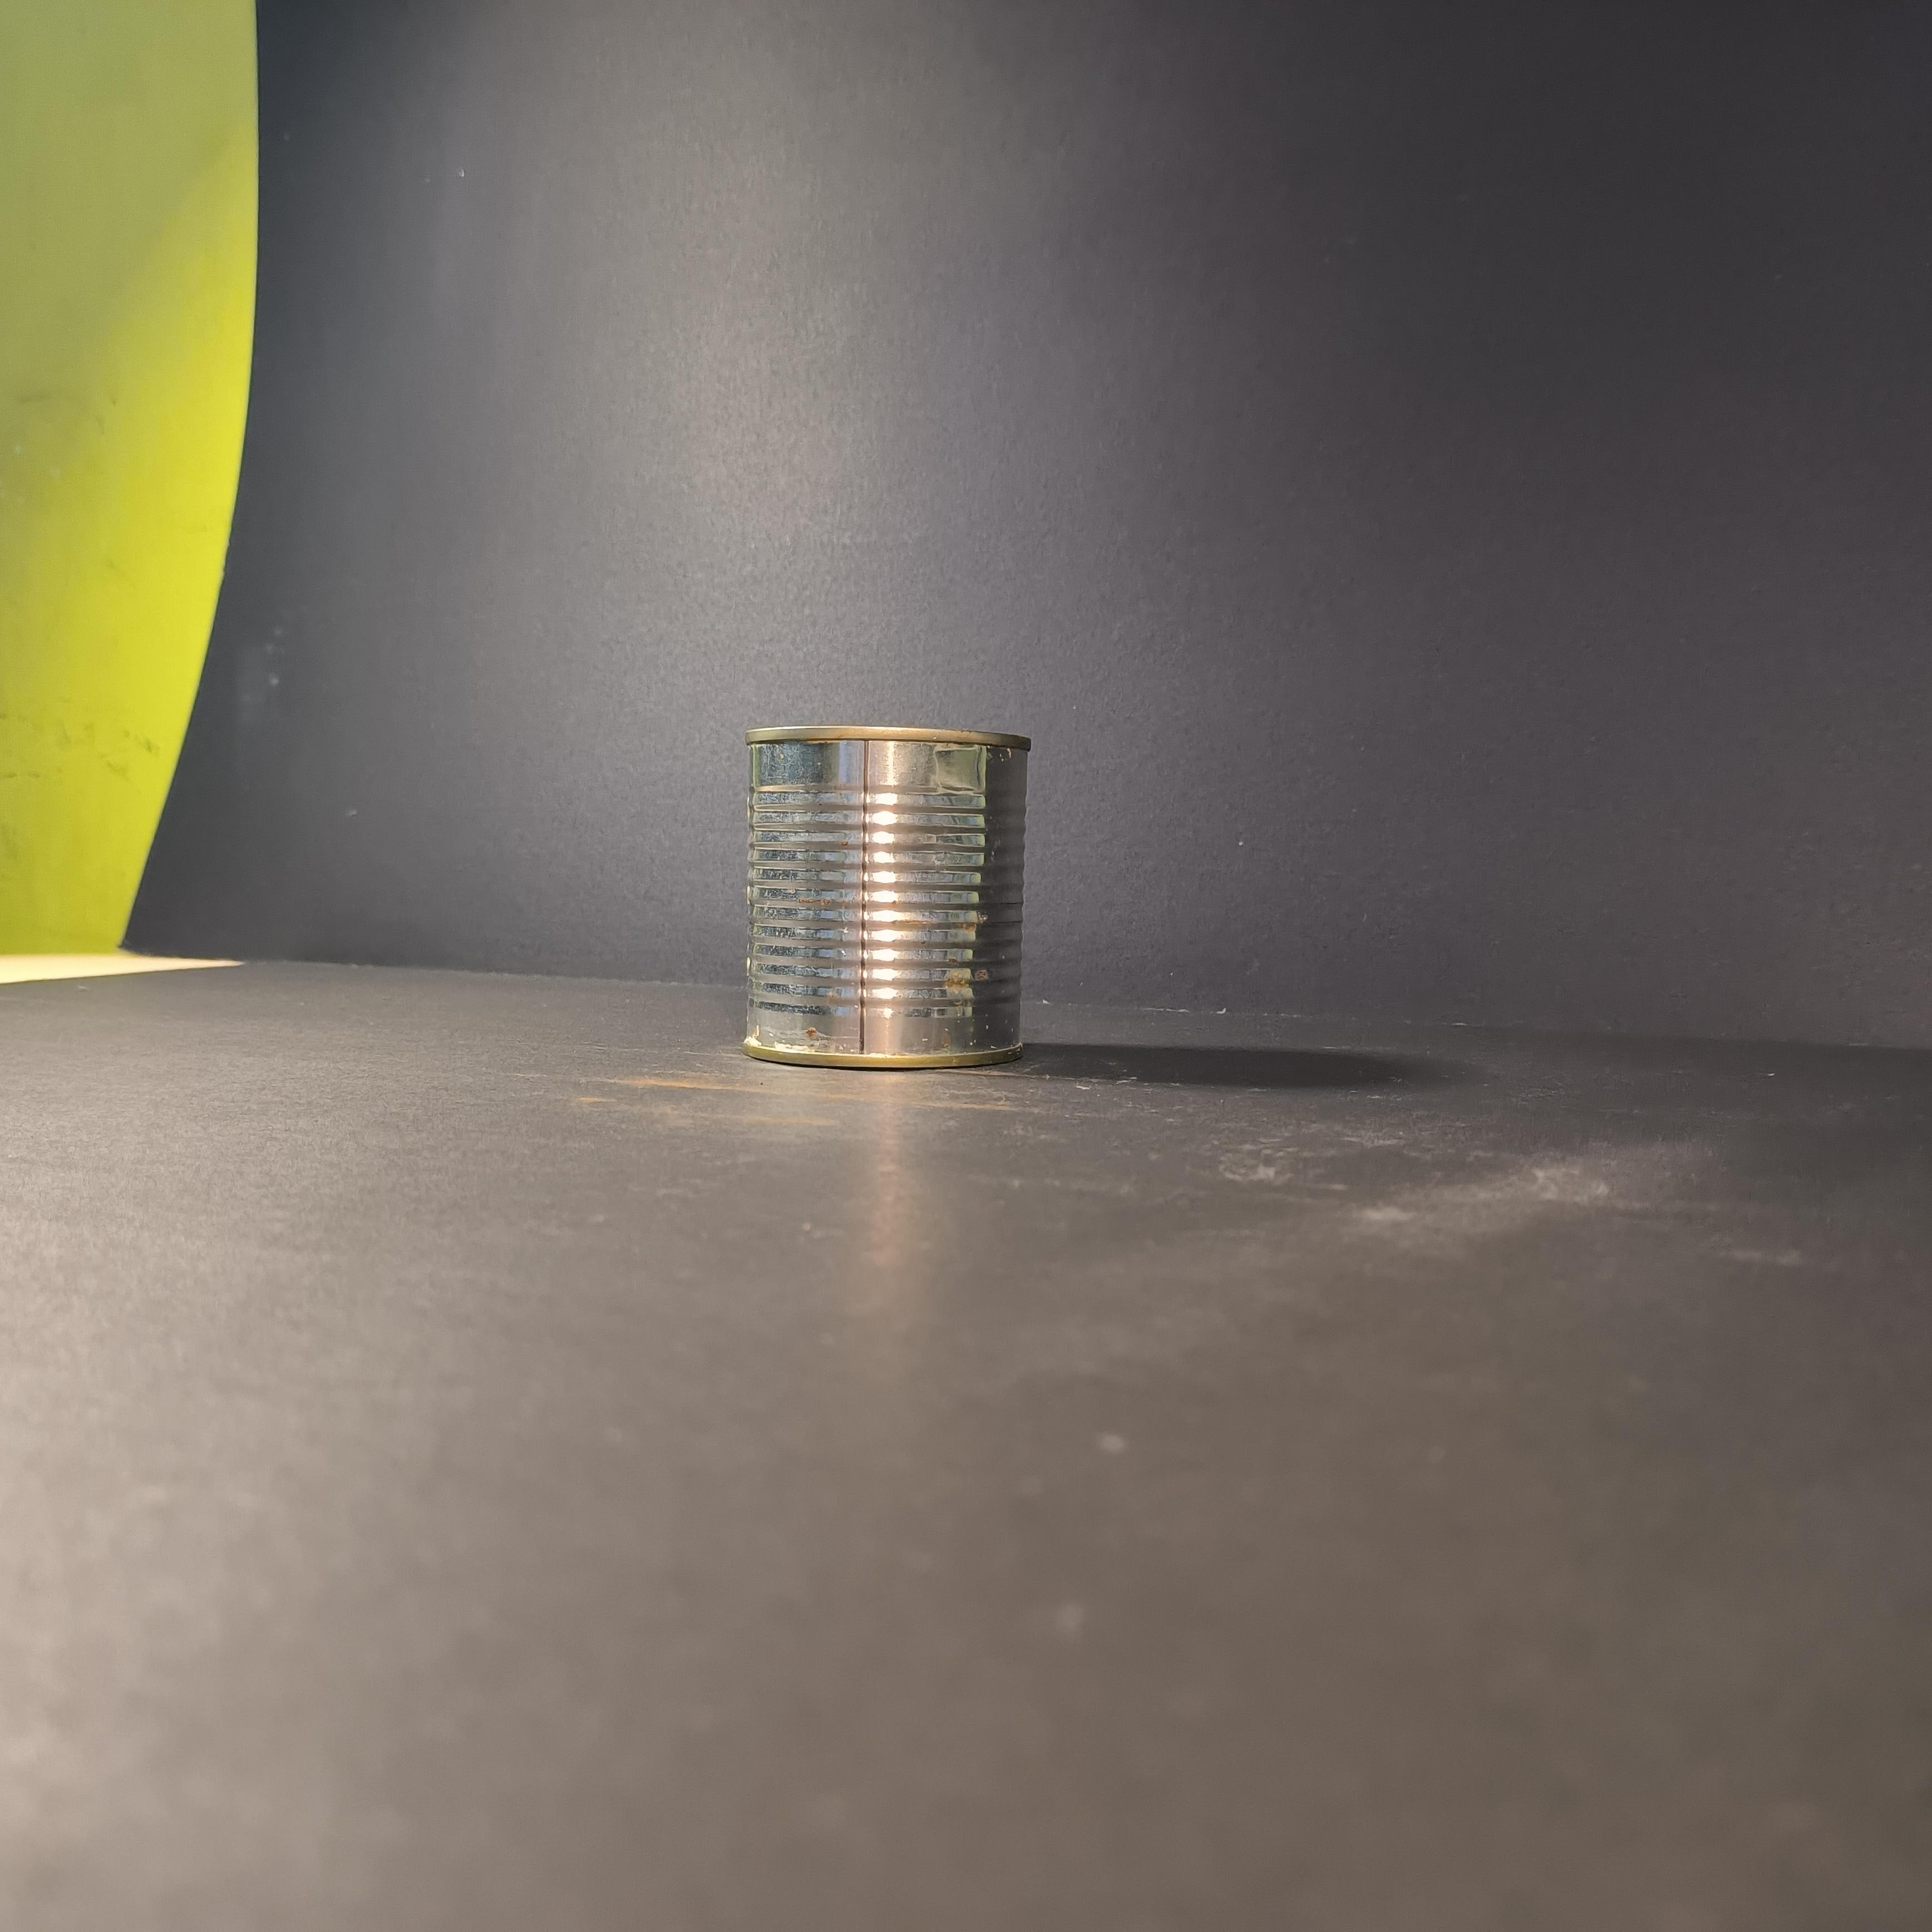Rusted: (720, 694, 1051, 1079)
